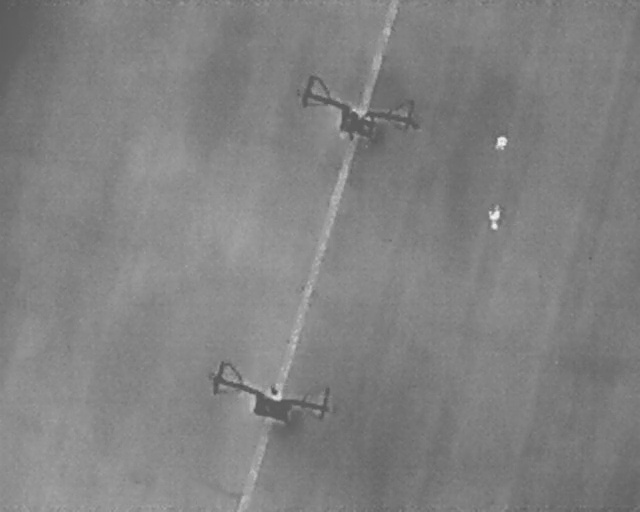Person: (487, 203, 502, 231), (494, 135, 508, 150)
